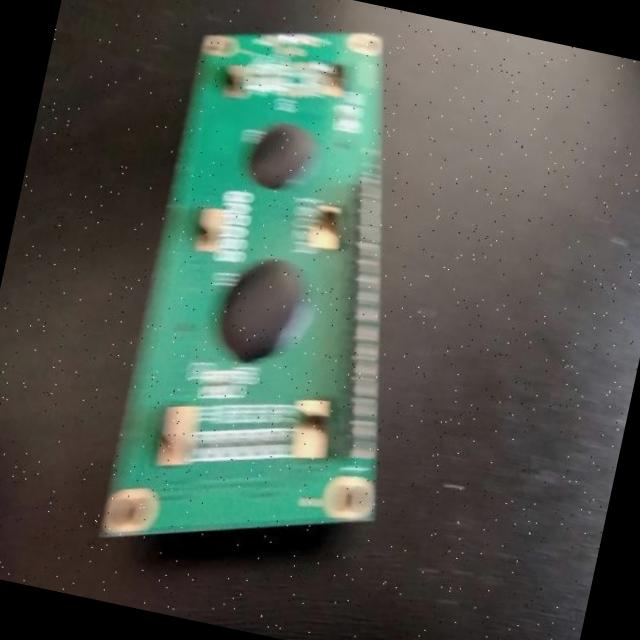lcd: (91, 0, 474, 591)
